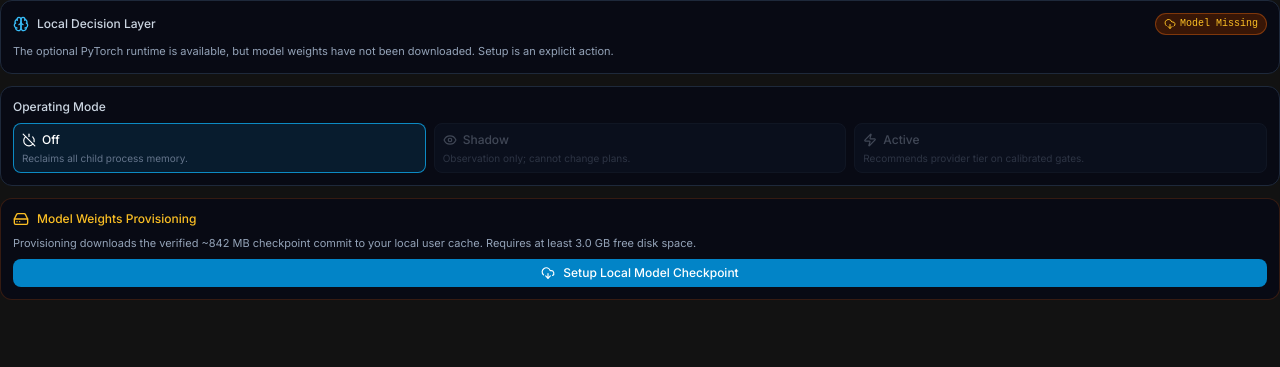
LocalDecisionsSettings - Desktop UI & Setup Guidance › guides user through explicit model setup when model is missing
Expected: the text "Model Missing" is shown, [1180,16,1258,32]
Expected: the text "Requires at least 3.0 GB free disk space" is shown, [13,236,696,250]
Click the button "Setup Local Model Checkpoint". click: coordinates (640, 273)
box: [13,259,1267,287]
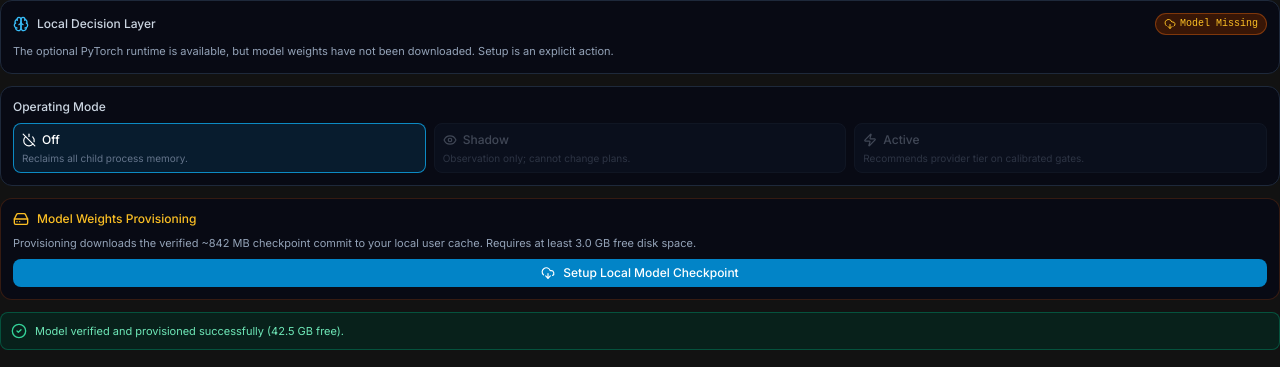
Expected: the text "Model verified and provisioned successfully (42.5 GB free)." is shown, [35,323,344,339]
